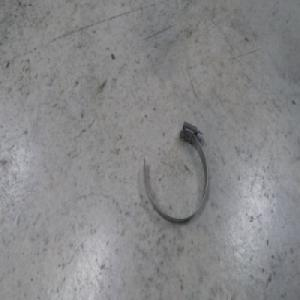AdjustableClamp: (141, 120, 210, 225)
